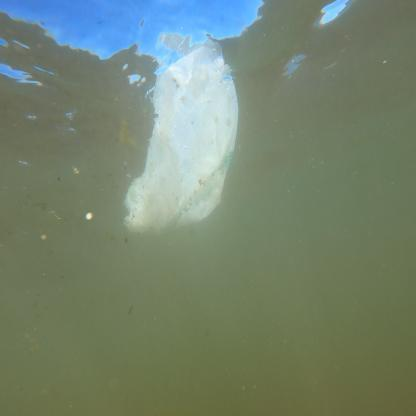Rác: (132, 52, 238, 235)
